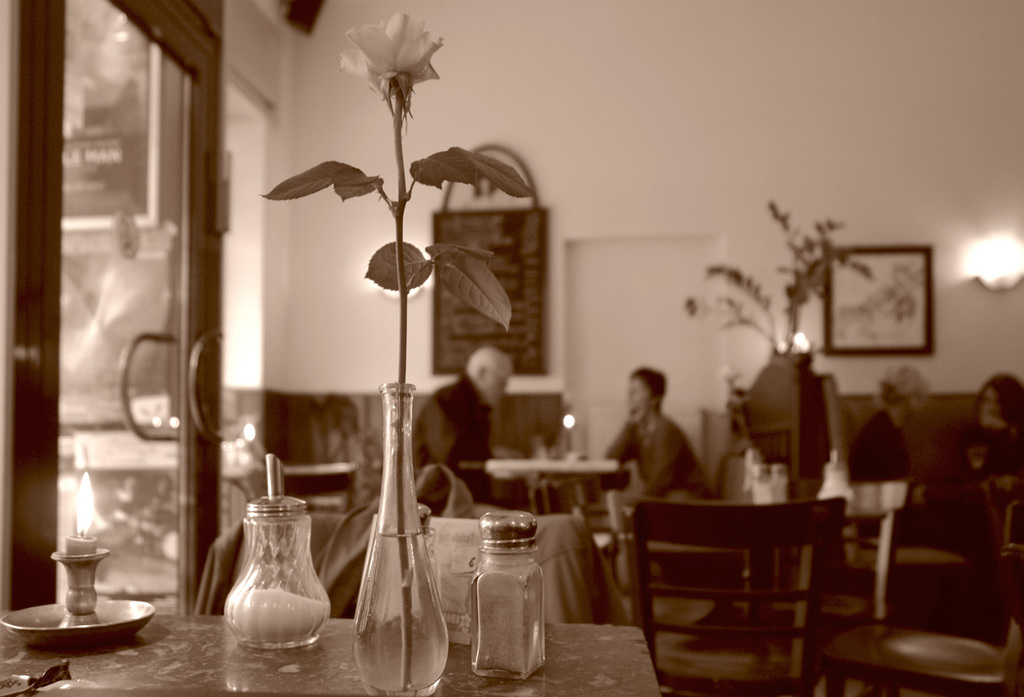Chair: (624, 487, 848, 667)
